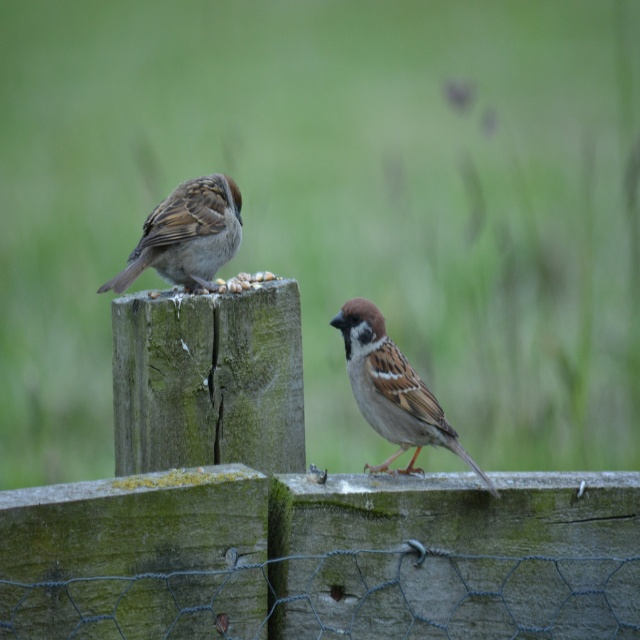Sparrow: (326, 294, 503, 502), (98, 174, 244, 294)
